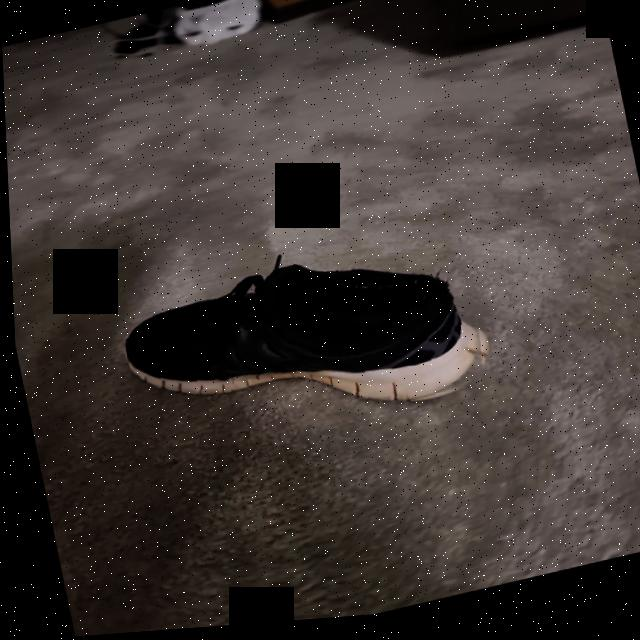shoe: (113, 230, 496, 469)
